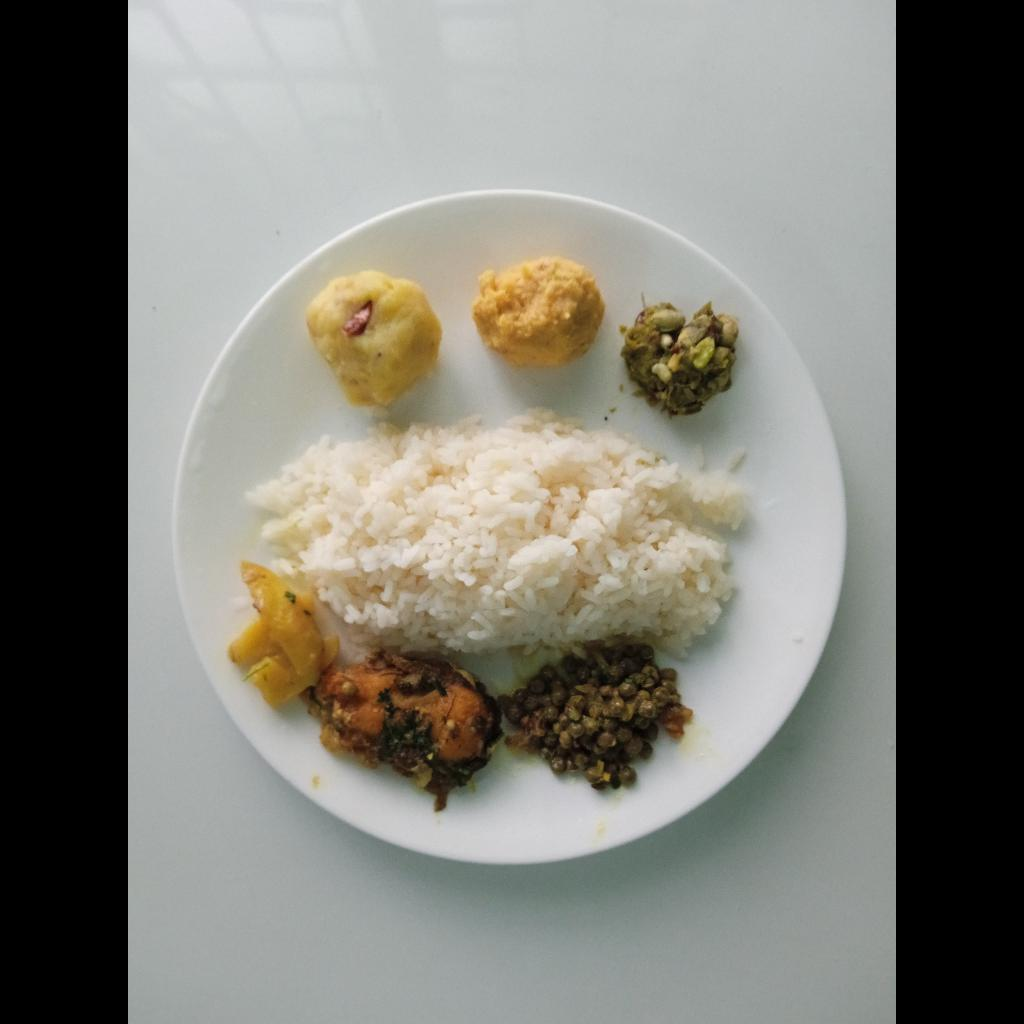daal: (468, 254, 605, 367)
fish: (313, 648, 501, 792)
green-pea: (505, 655, 690, 789)
potato: (227, 562, 341, 710)
potato-mashed: (303, 276, 442, 405)
rice: (242, 405, 749, 650)
vorta: (625, 304, 739, 415)
